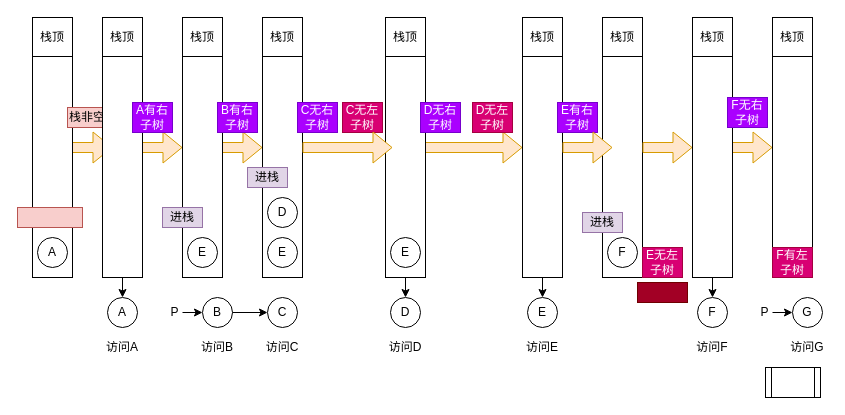
This 845x415 diagram has some shape labels left out. The shapes that lost their labels are listed below. From the top down, each one's box as (x1, y1, x2, y2) in pixels, then its label:
(16, 206, 82, 228): 根结点入栈
(636, 282, 688, 302): P=NULL
(764, 366, 820, 398): END
